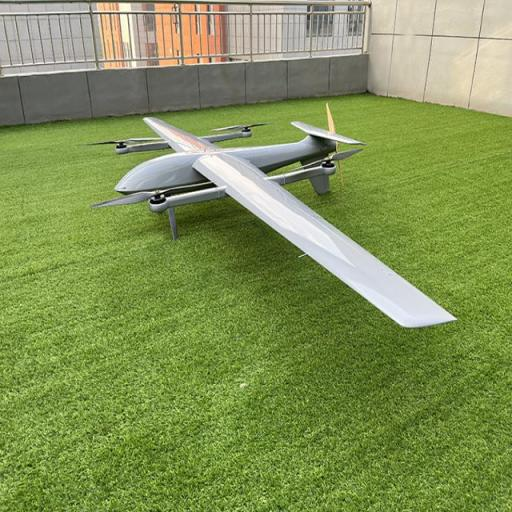uav: (100, 108, 462, 352)
